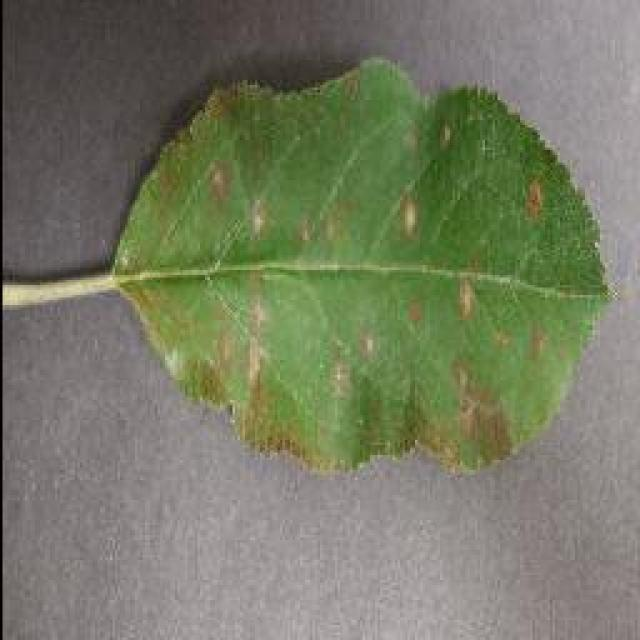apple rust disease: (107, 52, 615, 478)
